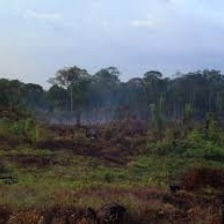incendio: (7, 88, 160, 143)
